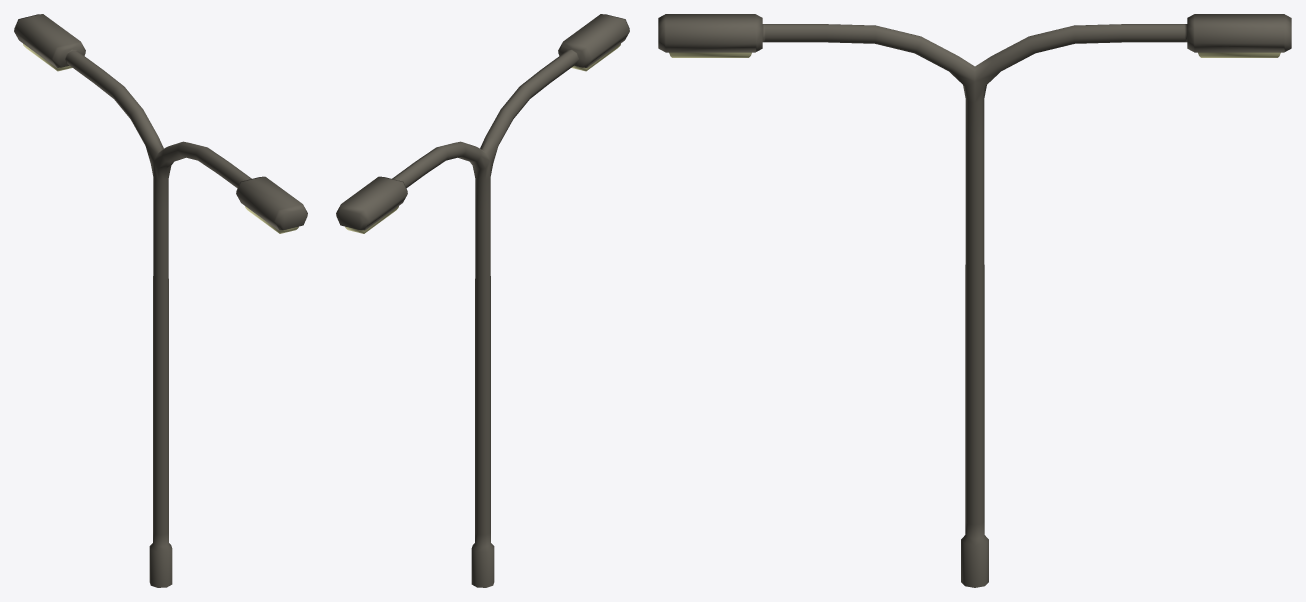
Rendered from Lmp2.fbx.
The picture shows the model from 3 angles, left to right: view 1: azimuth 30°, elevation 25°; view 2: azimuth 150°, elevation 25°; view 3: azimuth 270°, elevation 25°; orthographic projection. The views are drawn at different scales.
Visible parts, largest first — view 1: Circle.010; view 2: Circle.010; view 3: Circle.010.
Part boxes in pixels (x1,y1,x2,y2): Circle.010: (14,14,307,587); Circle.010: (336,14,629,587); Circle.010: (658,14,1291,587).
Bounding box in the file's own units: 11.77 × 154 × 158.
